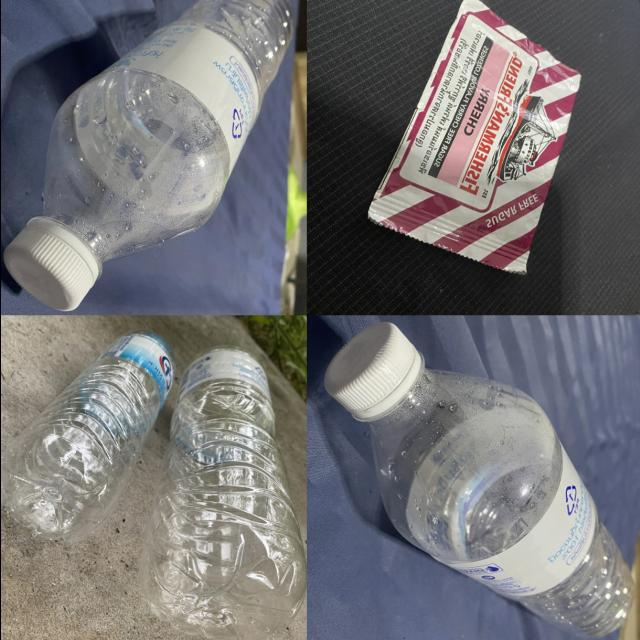plastik: (325, 323, 632, 638), (3, 0, 290, 311), (367, 0, 579, 273), (140, 348, 305, 640), (0, 331, 173, 542)
